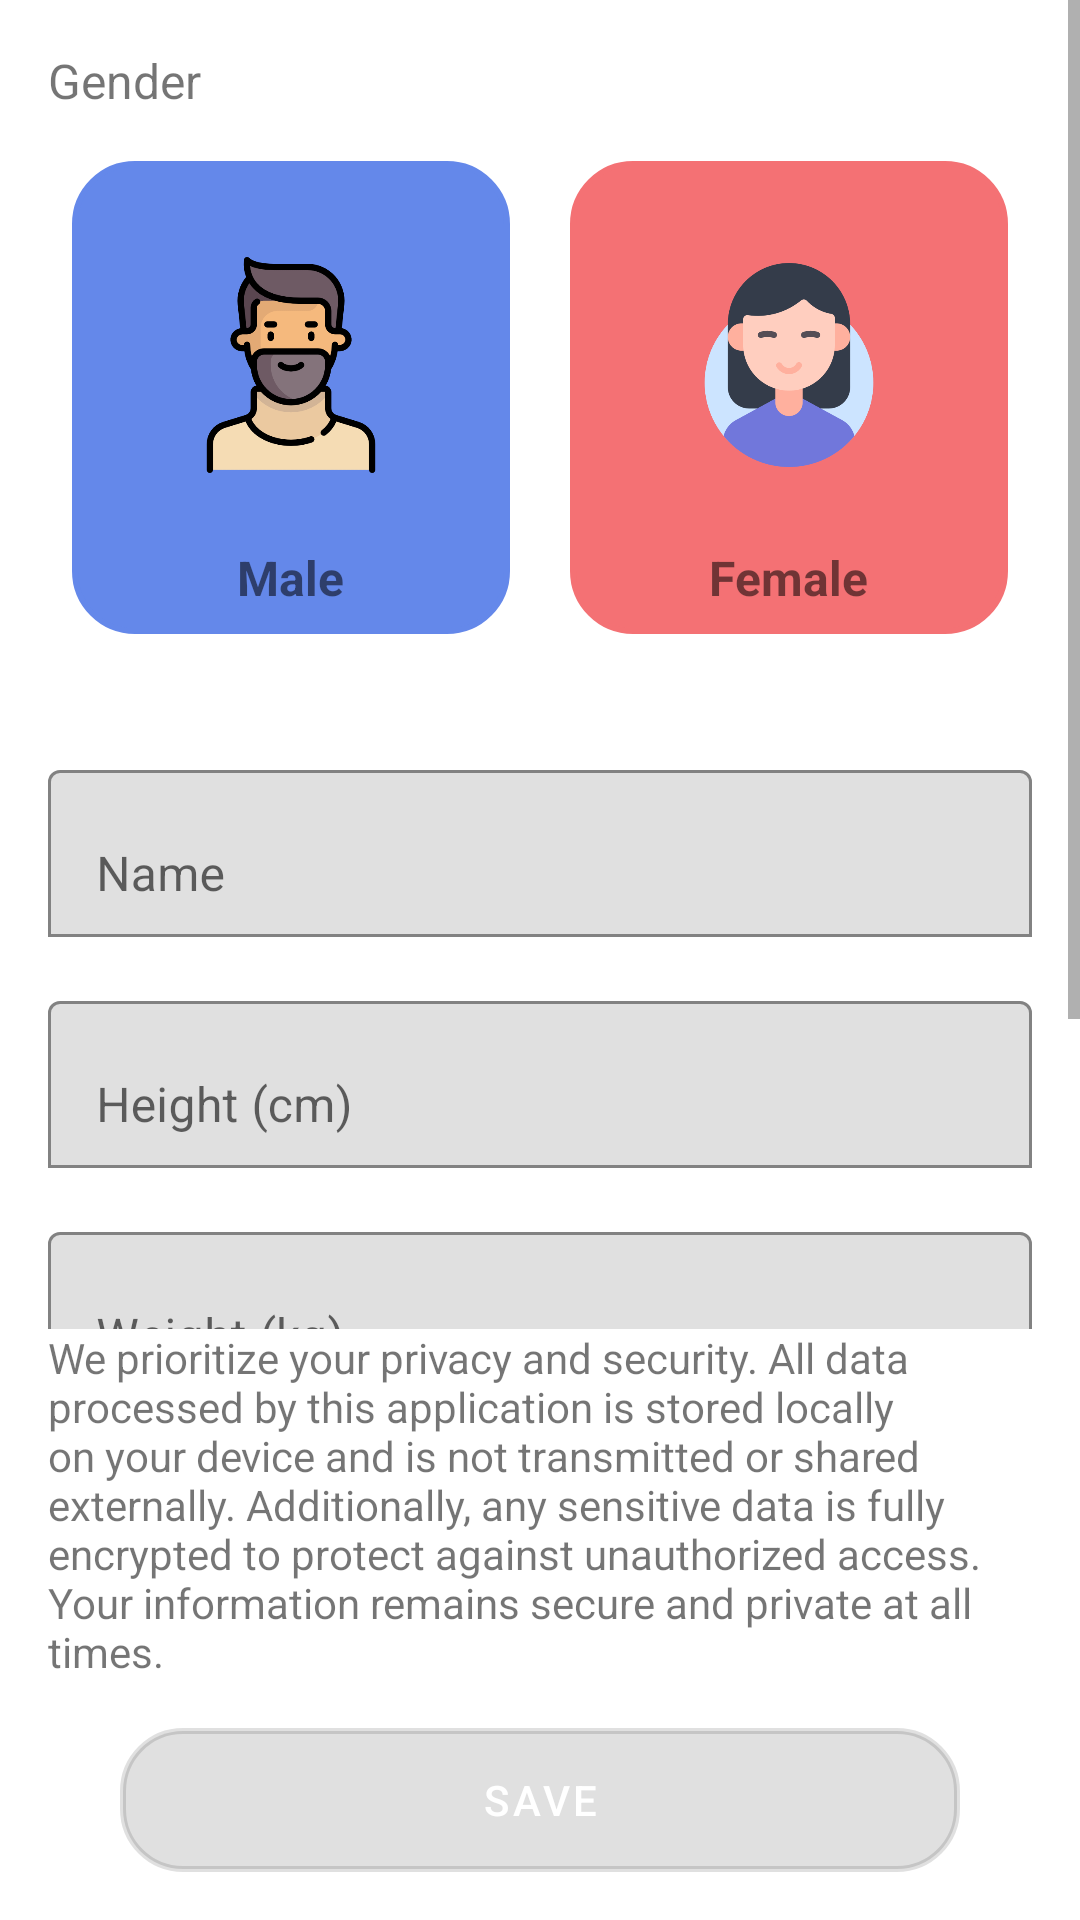

Icon click points for this 1080 x 1920 phone screenshot, format point (x, y):
person man: point (291, 365)
person woman: point (789, 365)
